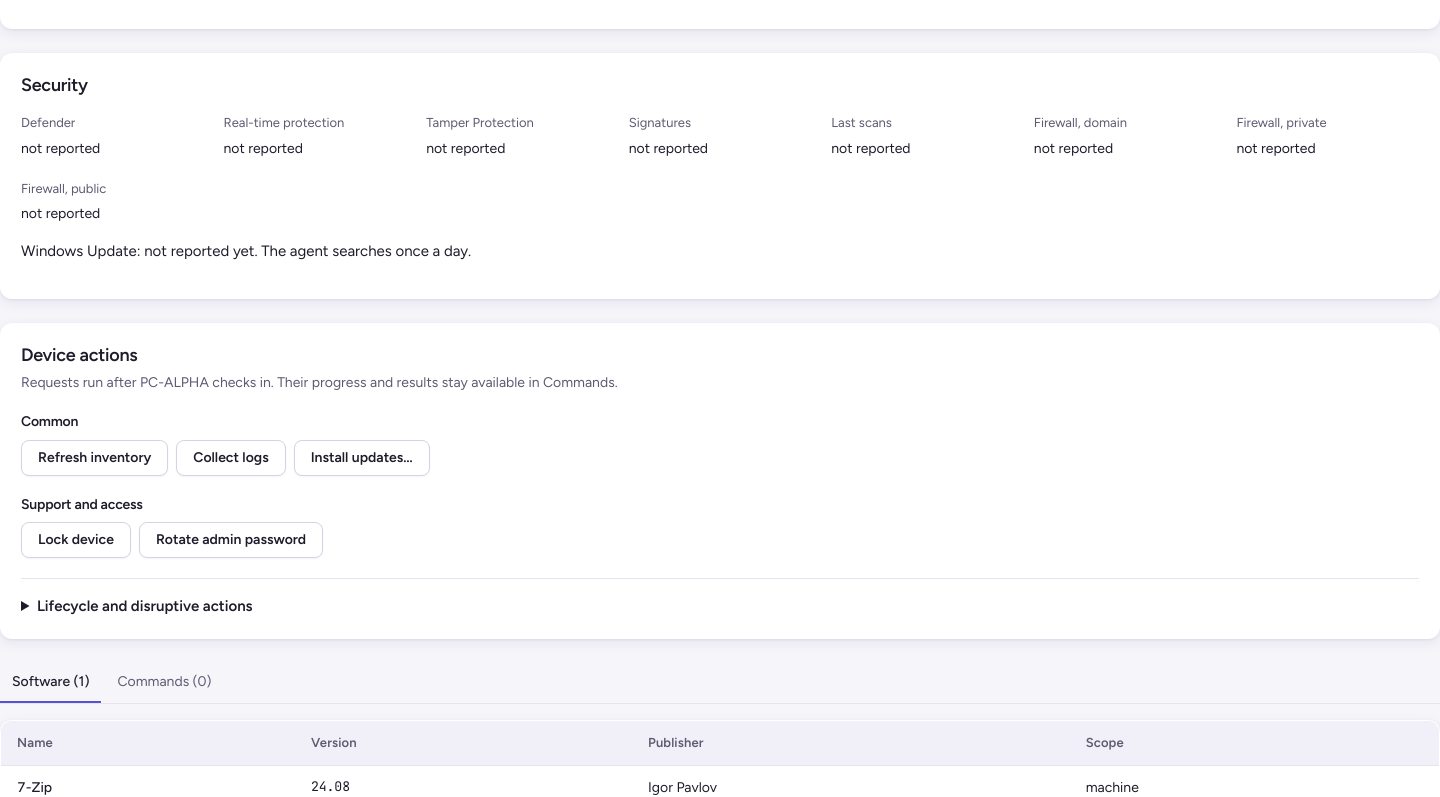
Test: DeviceDetail › shows helpdesk the device actions, not the code or destructive ones
(page scrolled)
expect the button "Lock device" is shown: met, box [21,522,131,558]
expect the button "Collect logs" is shown: met, box [176,440,286,476]
Step 1. Click the heading "Lifecycle and disruptive actions" → {"x": 137, "y": 606}, box [21,595,253,618]
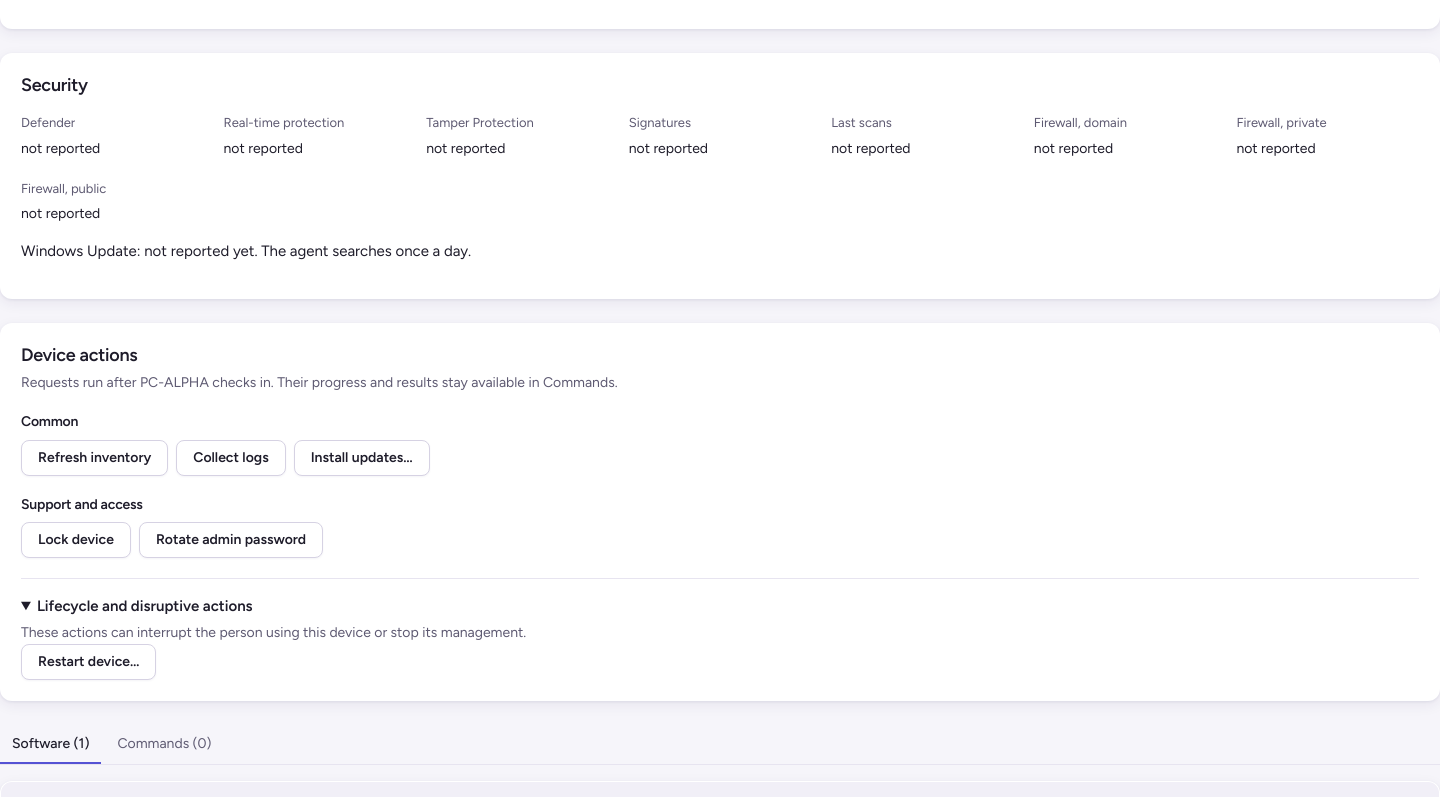
expect the button "Restart device…" is shown: met, box [21,644,156,680]
